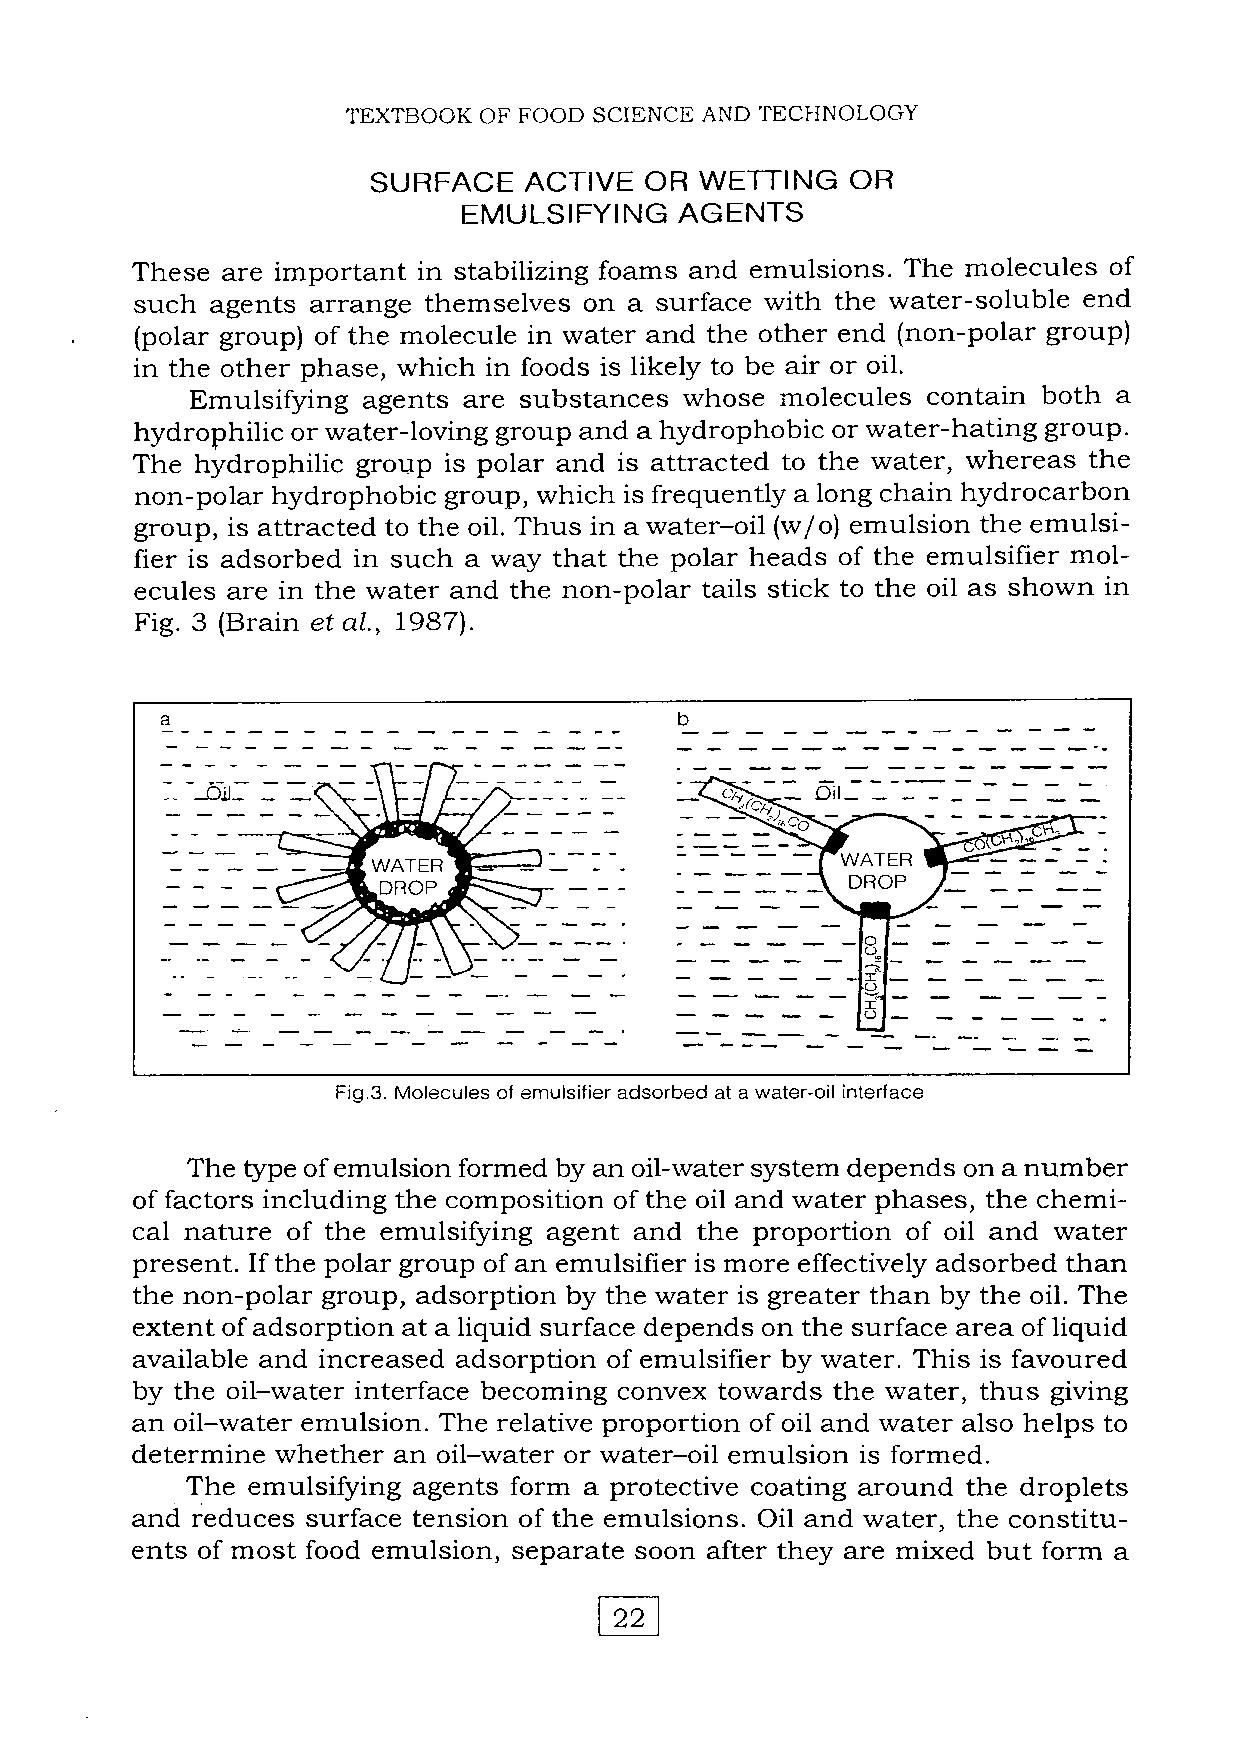chapter: (360, 157, 896, 228)
content: (123, 250, 1134, 1567)
content_chapter: (340, 103, 918, 126)
content_pagenumber: (607, 1602, 650, 1629)
